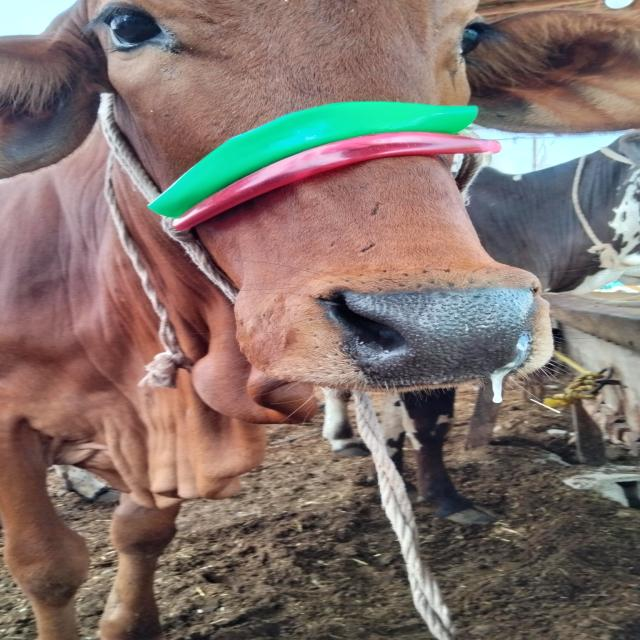muzzles: (306, 277, 569, 391)
